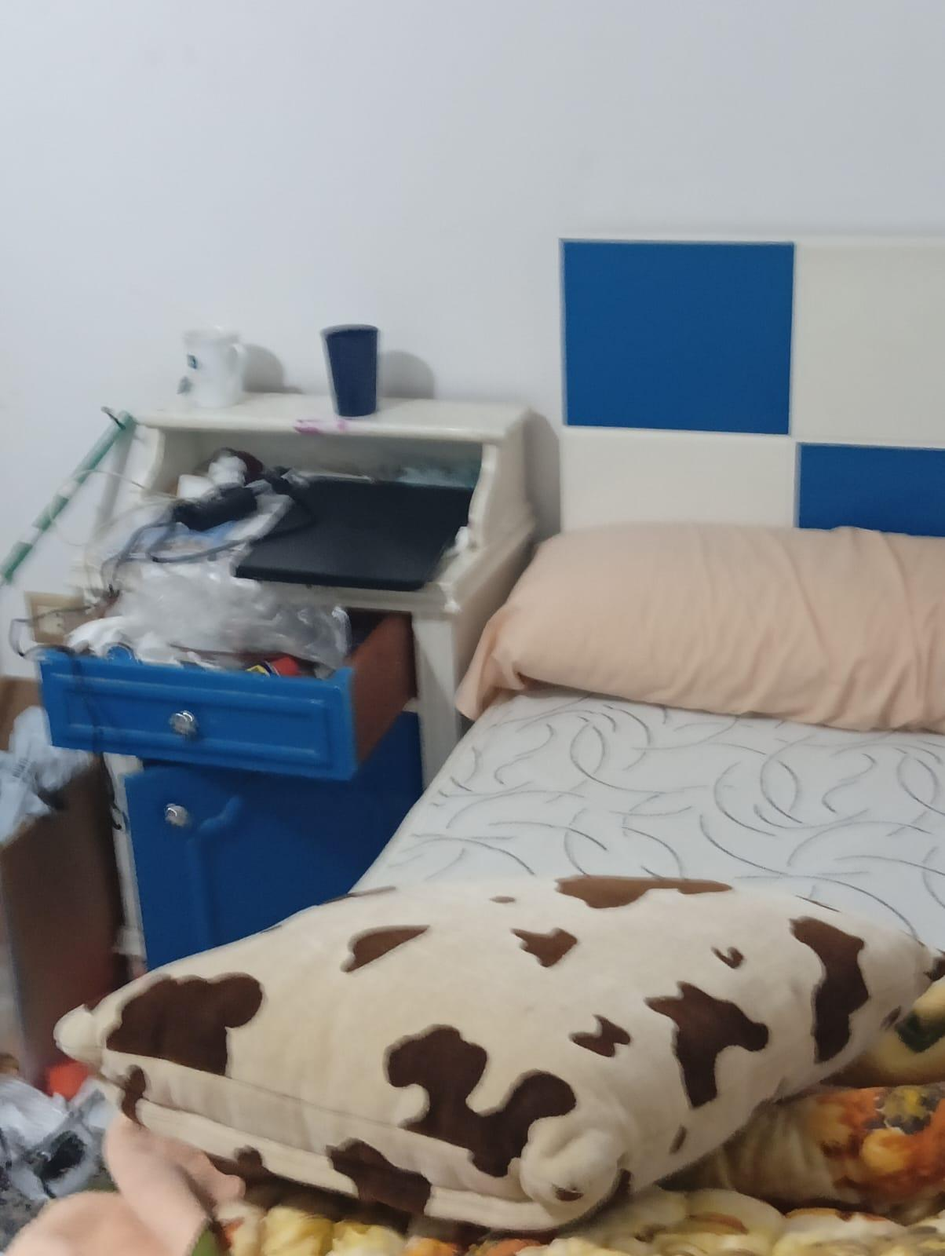cup: (322, 324, 378, 418), (184, 330, 246, 408)
